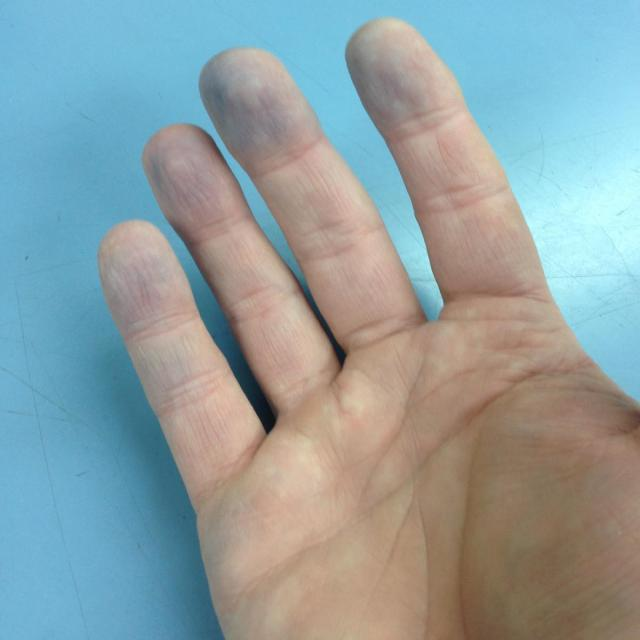raynauds: (83, 12, 473, 294)
